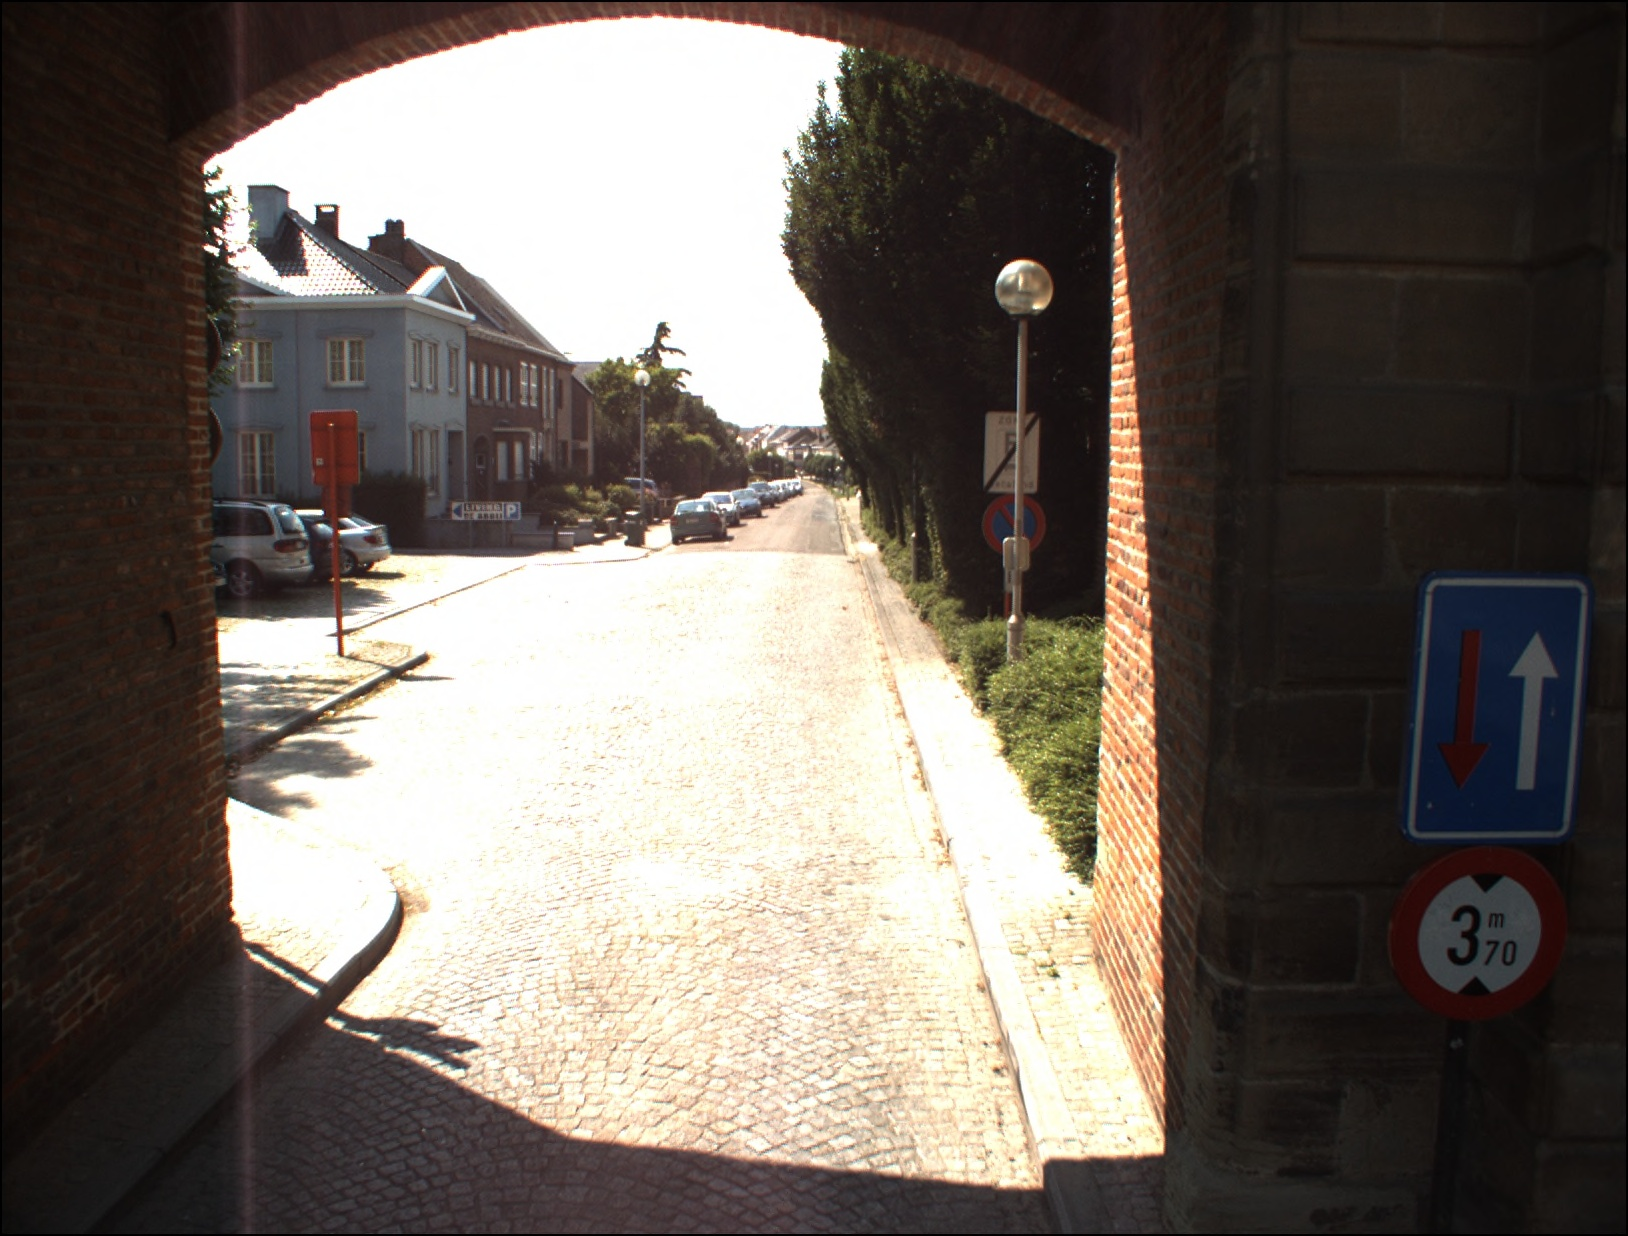roadnarrow1: (1423, 576, 1571, 841)
